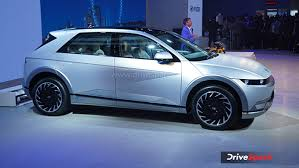Honda Ioniq: (12, 23, 277, 137)
